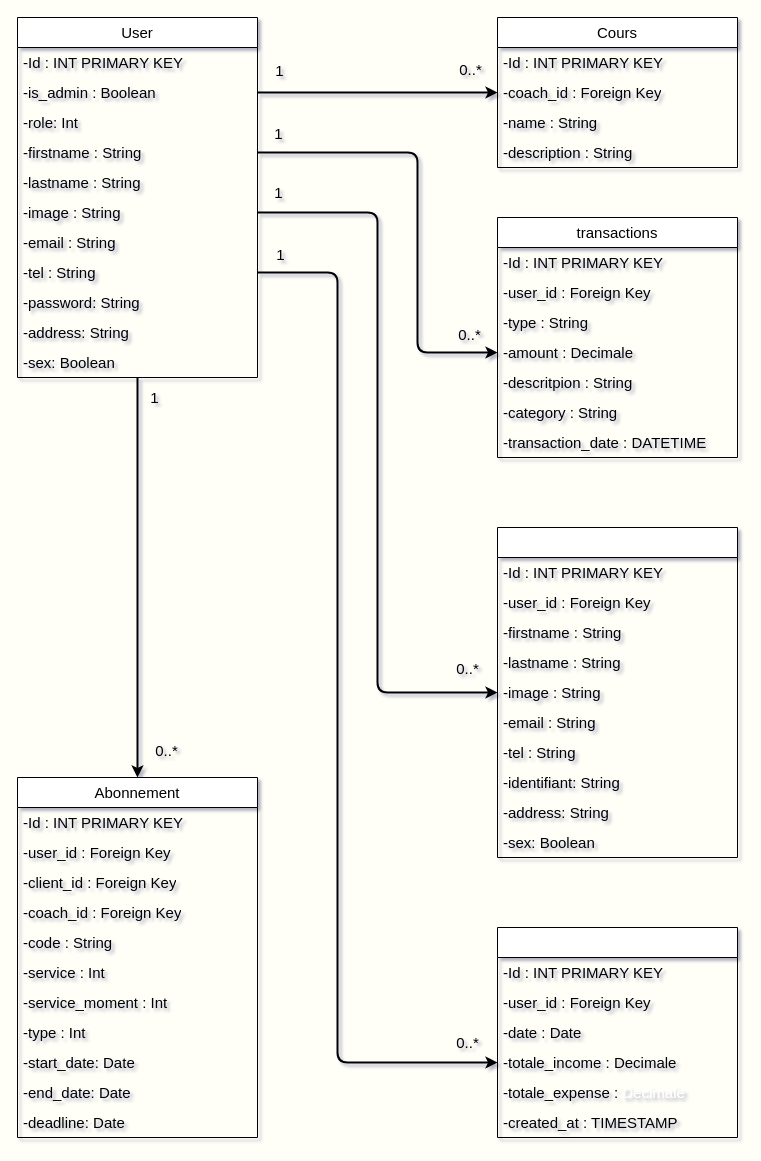
The diagram is 761 pixels wide and 1161 high, and some of its shapes have lost their labels. The shapes that lost their labels are listed below. From the top down, each one's box as (x1, y1, x2, y2) in pixels, then its label:
(496, 526, 738, 858): Client
(496, 926, 738, 1138): daily_revenues
